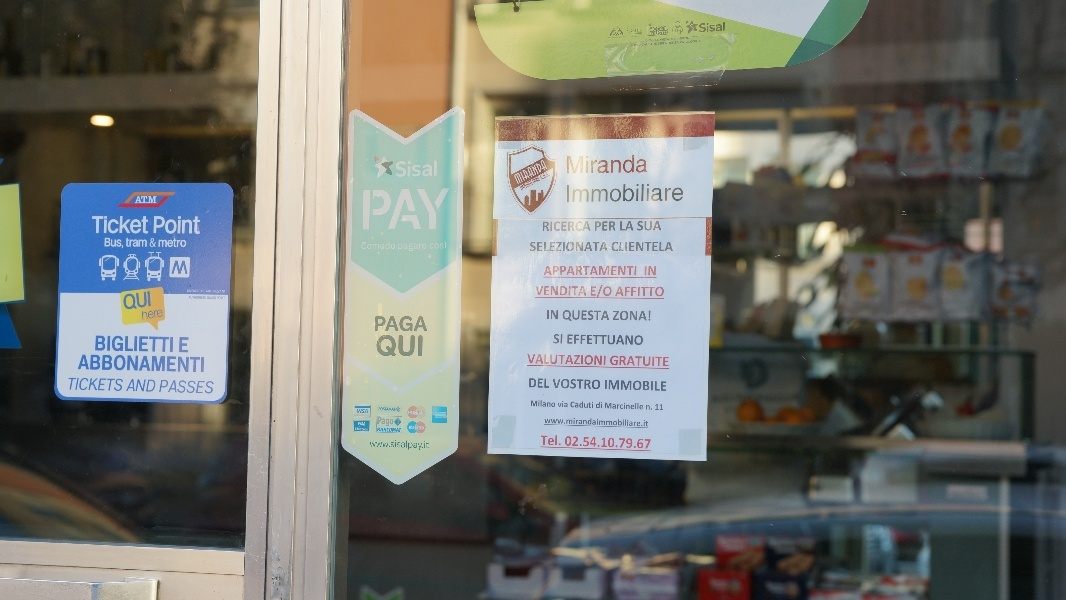text: (369, 189, 384, 231), (385, 189, 400, 231), (401, 189, 416, 231), (417, 189, 432, 231), (433, 189, 448, 231), (529, 160, 544, 185), (514, 160, 528, 185), (385, 335, 400, 357), (401, 335, 416, 357), (97, 215, 112, 235), (113, 215, 128, 235), (129, 215, 144, 235), (129, 291, 144, 311), (577, 155, 592, 175), (593, 155, 608, 175), (609, 155, 624, 175), (625, 155, 640, 175), (577, 183, 592, 203), (593, 183, 608, 203), (609, 183, 624, 203), (625, 183, 640, 203), (641, 183, 656, 203), (657, 183, 672, 203), (161, 216, 176, 235), (177, 216, 192, 235), (97, 354, 112, 373), (113, 354, 128, 373), (129, 354, 144, 373), (145, 354, 160, 373), (161, 354, 176, 373), (177, 354, 192, 373), (401, 160, 416, 178), (417, 160, 432, 178), (97, 336, 112, 353), (113, 336, 128, 353), (129, 336, 144, 353), (145, 336, 160, 353), (161, 336, 176, 353), (83, 354, 96, 373), (385, 316, 400, 332), (401, 316, 416, 332), (193, 354, 205, 373), (577, 435, 592, 450), (593, 435, 608, 450), (609, 435, 624, 450), (625, 435, 640, 450), (177, 380, 192, 395), (193, 380, 208, 395), (177, 336, 190, 353), (673, 183, 684, 203), (81, 378, 96, 392), (97, 378, 112, 392), (162, 380, 176, 395), (363, 189, 368, 231), (529, 176, 542, 192), (593, 285, 608, 298), (417, 316, 429, 332), (145, 309, 160, 321), (369, 440, 384, 452), (385, 440, 400, 452), (401, 440, 416, 452), (705, 22, 720, 34), (567, 155, 576, 175), (625, 241, 640, 253), (641, 241, 656, 253), (657, 241, 672, 253), (577, 310, 592, 322), (593, 310, 608, 322), (625, 355, 640, 367), (641, 355, 656, 367), (609, 380, 624, 392), (625, 380, 640, 392), (641, 380, 656, 392), (565, 435, 576, 450), (641, 435, 652, 450), (177, 260, 188, 275), (133, 379, 144, 394), (145, 379, 156, 394), (625, 286, 640, 297), (641, 286, 656, 297), (529, 354, 544, 365), (545, 354, 560, 365), (561, 354, 576, 365), (577, 354, 592, 365), (561, 379, 576, 390), (577, 379, 592, 390), (577, 334, 592, 345), (593, 334, 608, 345), (609, 334, 624, 345), (625, 334, 640, 345), (545, 435, 560, 446), (568, 183, 576, 203), (593, 242, 609, 252), (417, 440, 430, 452), (563, 310, 576, 322), (611, 355, 624, 367), (69, 378, 80, 392), (113, 378, 124, 392), (377, 335, 384, 357), (417, 335, 424, 357), (593, 354, 607, 365), (193, 216, 201, 235), (129, 238, 144, 248), (161, 238, 176, 248), (545, 222, 560, 232), (561, 222, 576, 232), (577, 222, 592, 232), (545, 242, 560, 252), (561, 242, 576, 252), (577, 242, 592, 252), (561, 266, 576, 276), (577, 266, 592, 276), (593, 266, 608, 276), (609, 266, 624, 276), (641, 221, 656, 231), (545, 286, 560, 296), (561, 286, 576, 296), (625, 311, 640, 321), (529, 378, 544, 388), (545, 417, 560, 427), (561, 417, 576, 427), (577, 417, 592, 427), (593, 417, 608, 427), (609, 417, 624, 427), (625, 417, 640, 427), (375, 316, 384, 332), (519, 176, 528, 192), (612, 241, 624, 253), (657, 355, 669, 367), (595, 221, 608, 232), (145, 291, 152, 311), (641, 155, 648, 175), (113, 238, 124, 250), (531, 242, 544, 252), (547, 266, 560, 276), (625, 266, 638, 276), (433, 241, 447, 250), (369, 242, 384, 250), (401, 244, 416, 252), (548, 310, 560, 320), (657, 380, 667, 392), (577, 401, 592, 409), (145, 196, 158, 205), (154, 216, 160, 235), (625, 221, 635, 232), (645, 266, 656, 276), (613, 311, 624, 321), (641, 311, 652, 321), (609, 403, 624, 410), (625, 403, 640, 410), (150, 238, 160, 248), (177, 238, 187, 248), (123, 291, 128, 311), (577, 286, 587, 296), (104, 238, 112, 250), (395, 160, 400, 178), (433, 160, 438, 178), (385, 416, 394, 426), (385, 427, 400, 433), (535, 286, 544, 296), (385, 242, 396, 250), (593, 379, 601, 390), (568, 334, 576, 345), (449, 189, 451, 231), (532, 400, 544, 407), (596, 402, 608, 409), (92, 215, 96, 235), (145, 215, 149, 235), (417, 244, 427, 252), (641, 417, 649, 427), (609, 221, 616, 232), (657, 286, 664, 297), (553, 379, 560, 390), (545, 400, 556, 407), (209, 380, 214, 395), (545, 160, 548, 185), (136, 196, 144, 205), (657, 403, 665, 412), (657, 26, 669, 32), (658, 41, 672, 46), (657, 31, 668, 37), (209, 290, 224, 294), (378, 416, 384, 426), (721, 22, 726, 34), (657, 38, 672, 42), (545, 171, 551, 181), (657, 221, 663, 231), (554, 334, 560, 344), (193, 296, 207, 300), (642, 43, 656, 47), (385, 407, 396, 412), (619, 286, 624, 297), (193, 289, 206, 293), (355, 427, 368, 431), (689, 40, 702, 44), (545, 378, 550, 388), (646, 405, 656, 410), (561, 401, 568, 408), (362, 242, 368, 250), (700, 22, 704, 34), (660, 38, 672, 42), (433, 412, 448, 415), (609, 36, 624, 39), (357, 409, 368, 413), (620, 221, 624, 232), (540, 435, 544, 446), (358, 422, 368, 426), (540, 171, 544, 181), (571, 401, 576, 409), (435, 416, 448, 419), (675, 29, 688, 32), (609, 285, 612, 298), (141, 309, 144, 321), (161, 309, 164, 321), (378, 427, 384, 433), (417, 411, 426, 415), (631, 34, 640, 38), (650, 26, 656, 32), (676, 38, 688, 41), (679, 37, 688, 41), (673, 41, 680, 46), (641, 334, 644, 345), (680, 40, 688, 44), (632, 29, 640, 33), (614, 27, 624, 30), (651, 31, 656, 37), (646, 39, 656, 42), (209, 296, 216, 300), (217, 296, 224, 300), (409, 411, 416, 415), (417, 426, 424, 430), (642, 40, 656, 42), (379, 407, 384, 412), (410, 426, 416, 430), (632, 44, 640, 47), (606, 380, 608, 392), (641, 403, 644, 410), (126, 238, 128, 248), (145, 238, 147, 248), (638, 221, 640, 231), (561, 334, 563, 344), (430, 241, 432, 250), (188, 289, 192, 293), (175, 260, 176, 275), (635, 44, 640, 47), (558, 401, 560, 408), (606, 403, 608, 410), (591, 285, 592, 298), (189, 296, 192, 300), (673, 241, 674, 253), (609, 310, 610, 322), (527, 354, 528, 365), (561, 435, 562, 446), (159, 238, 160, 248), (543, 222, 544, 232), (655, 403, 656, 412), (206, 290, 208, 294), (399, 244, 400, 252), (641, 34, 643, 38), (689, 37, 691, 41), (641, 29, 643, 33), (593, 401, 594, 409), (401, 427, 402, 433), (625, 36, 627, 39), (225, 290, 226, 294), (207, 296, 208, 300), (225, 296, 226, 300), (657, 43, 658, 47), (673, 38, 674, 42), (641, 44, 642, 47)
